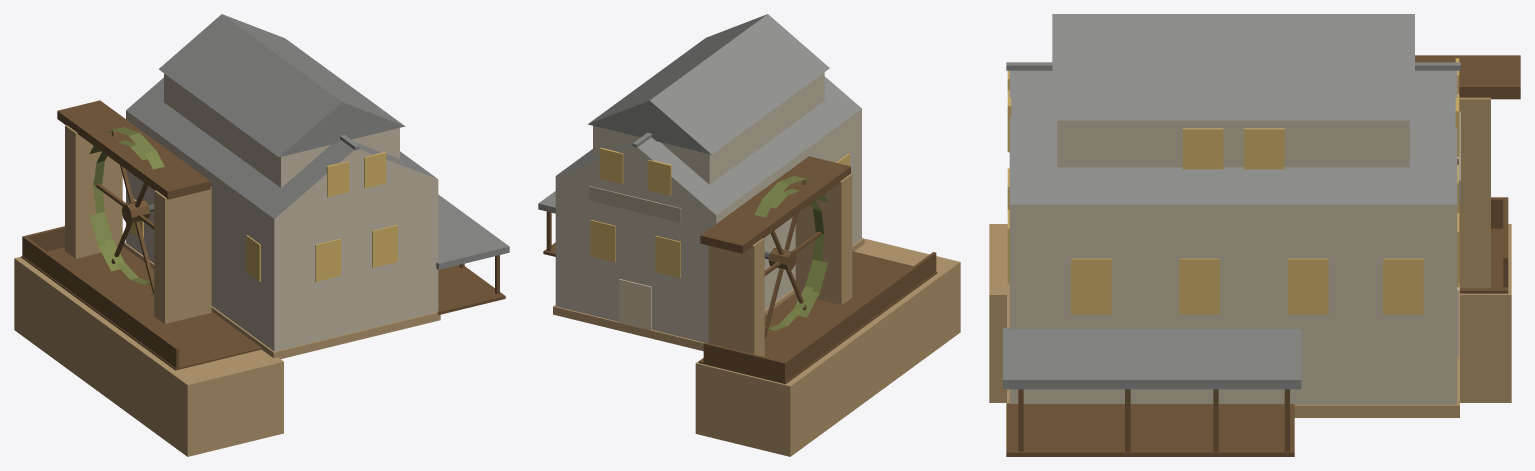
File: jasper_city_mill.meshopt.glb
The picture shows the model from 3 angles, left to right: view 1: azimuth 30°, elevation 25°; view 2: azimuth 150°, elevation 25°; view 3: azimuth 270°, elevation 25°; orthographic projection. The views are drawn at different scales.
Parts seen in each view (by area): view 1: wall, river_wall, attic_roof, deck, pier_0, attic, pier_1, flume, rail_x, porch_roof, foundation, porch_floor (+9 smaller); view 2: wall, river_wall, attic_roof, pier_1, deck, pier_0, attic, flume, rail_x, rail_y, foundation, door (+9 smaller); view 3: wall, attic_roof, porch_roof, porch_floor, attic, river_wall, pier_1, foundation, window_land_0, window_land_1, window_land_2, window_land_3 (+7 smaller).
Boxes of the visible parts, left/top/right/bottom form: wall: left=126, top=77, right=438, bottom=351; river_wall: left=14, top=257, right=283, bottom=456; attic_roof: left=159, top=14, right=405, bottom=157; deck: left=21, top=246, right=261, bottom=370; pier_0: left=154, top=187, right=211, bottom=323; attic: left=164, top=73, right=399, bottom=187; pier_1: left=65, top=125, right=122, bottom=258; flume: left=66, top=114, right=210, bottom=199; rail_x: left=22, top=237, right=179, bottom=368; porch_roof: left=436, top=194, right=509, bottom=269; foundation: left=123, top=242, right=440, bottom=358; porch_floor: left=437, top=265, right=505, bottom=314; wall: left=555, top=76, right=861, bottom=342; river_wall: left=695, top=239, right=960, bottom=456; attic_roof: left=588, top=14, right=829, bottom=154; pier_1: left=708, top=238, right=764, bottom=356; deck: left=698, top=251, right=937, bottom=384; pier_0: left=795, top=174, right=852, bottom=305; attic: left=593, top=72, right=824, bottom=184; flume: left=719, top=156, right=850, bottom=246; rail_x: left=782, top=252, right=936, bottom=382; rail_y: left=703, top=342, right=785, bottom=381; foundation: left=553, top=238, right=864, bottom=351; door: left=619, top=279, right=651, bottom=330; wall: left=1009, top=70, right=1457, bottom=404; attic_roof: left=1052, top=14, right=1414, bottom=120; porch_roof: left=1003, top=328, right=1301, bottom=389; porch_floor: left=1006, top=403, right=1294, bottom=456; attic: left=1057, top=120, right=1409, bottom=167; river_wall: left=989, top=224, right=1511, bottom=402; pier_1: left=1459, top=97, right=1490, bottom=288; foundation: left=1007, top=283, right=1459, bottom=417; window_land_0: left=1071, top=258, right=1111, bottom=314; window_land_1: left=1179, top=258, right=1219, bottom=314; window_land_2: left=1288, top=258, right=1328, bottom=314; window_land_3: left=1383, top=258, right=1423, bottom=314.
Size of the model in its own units: 16.75 by 14.55 by 15.66.
